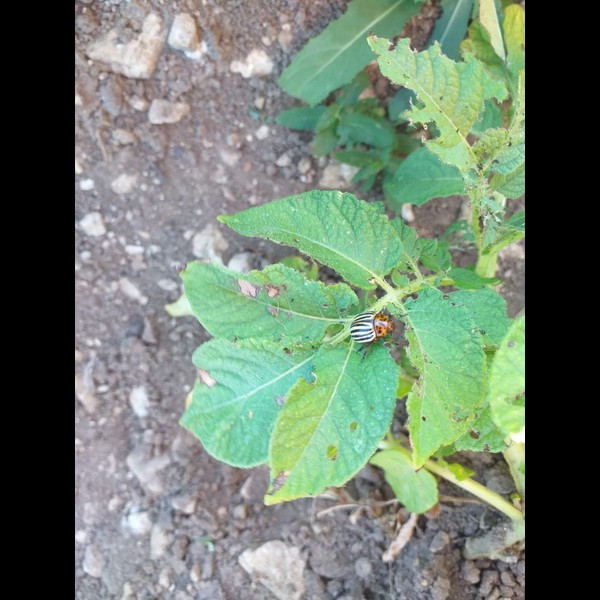hrosc: (348, 309, 395, 347)
